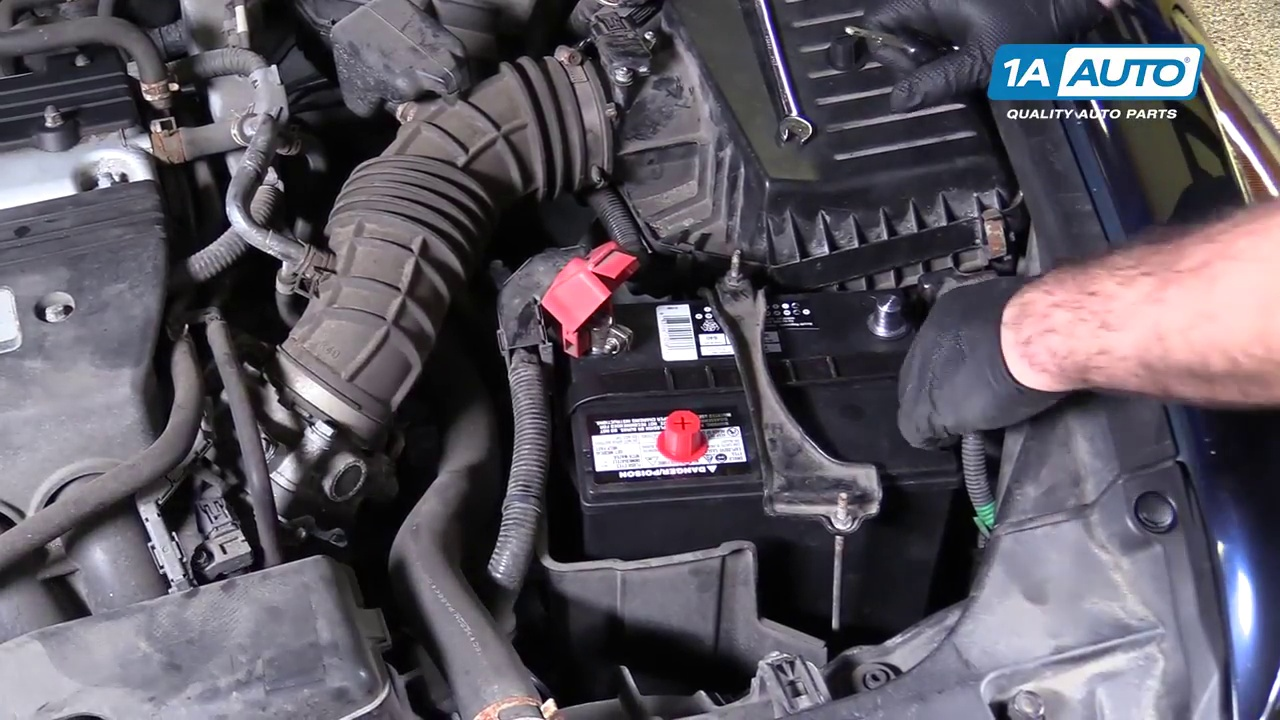battery: (546, 269, 955, 485)
neg_disconnected: (845, 256, 921, 361)
pos_connected: (532, 247, 650, 366)
